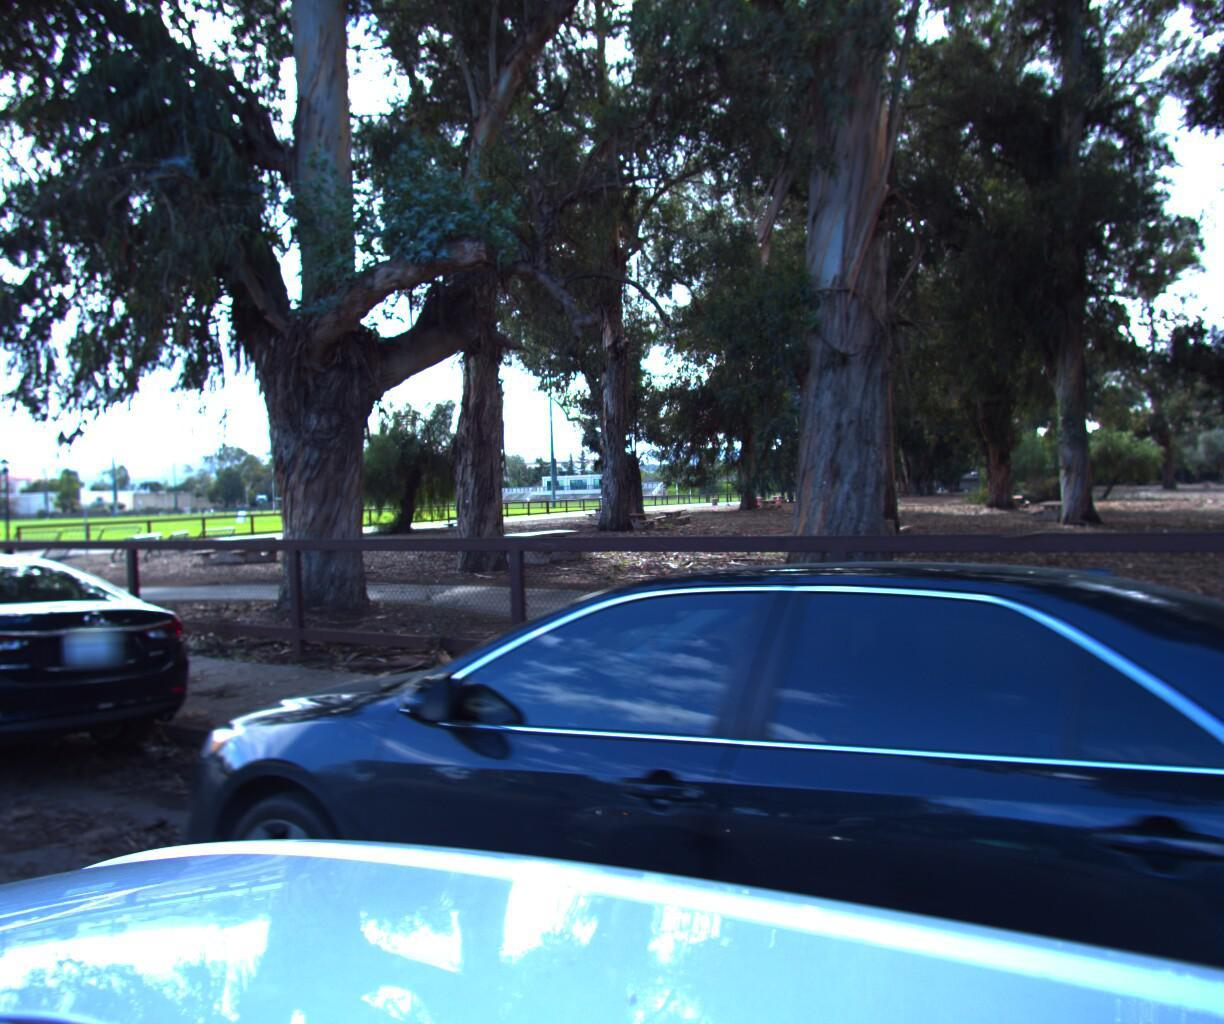car: (64, 539, 1224, 1024), (0, 546, 213, 839)
